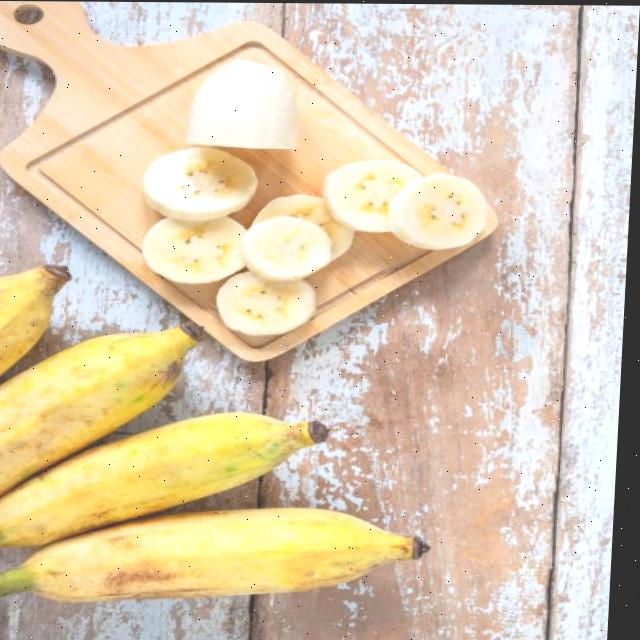banana: (0, 402, 340, 557), (0, 504, 439, 614), (0, 317, 195, 519), (0, 261, 63, 402)
